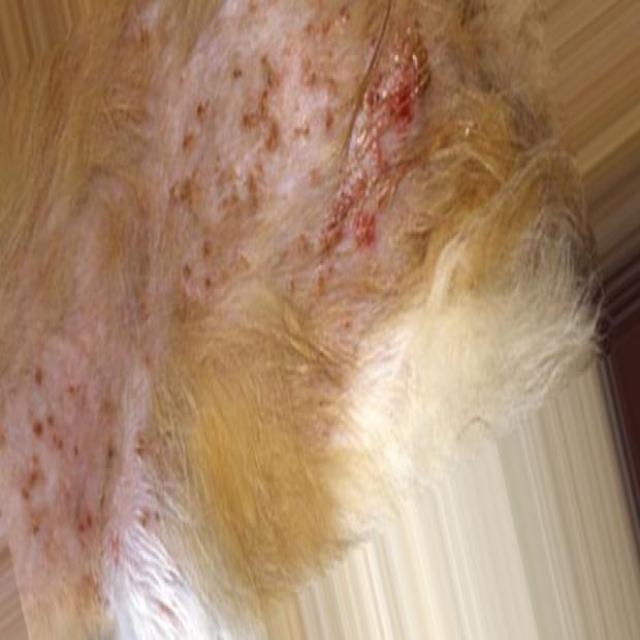di ung bo chet: (0, 0, 503, 596)
